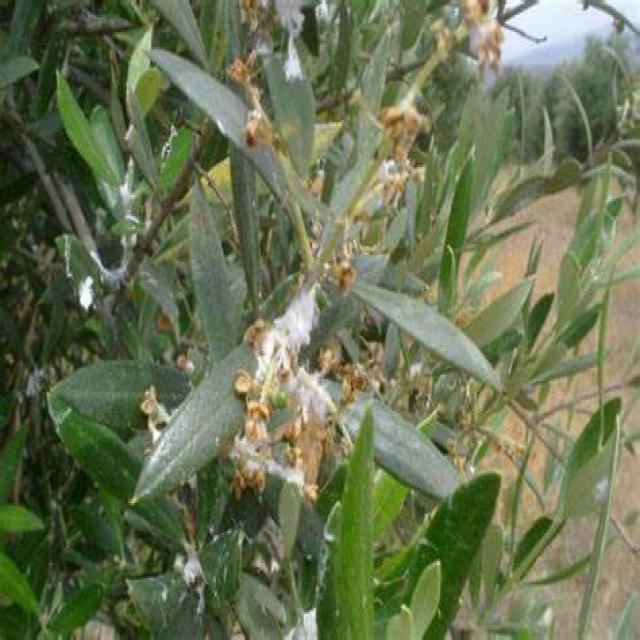Psyllid: (231, 283, 331, 494), (63, 158, 139, 334), (240, 0, 325, 79), (139, 385, 173, 443)
